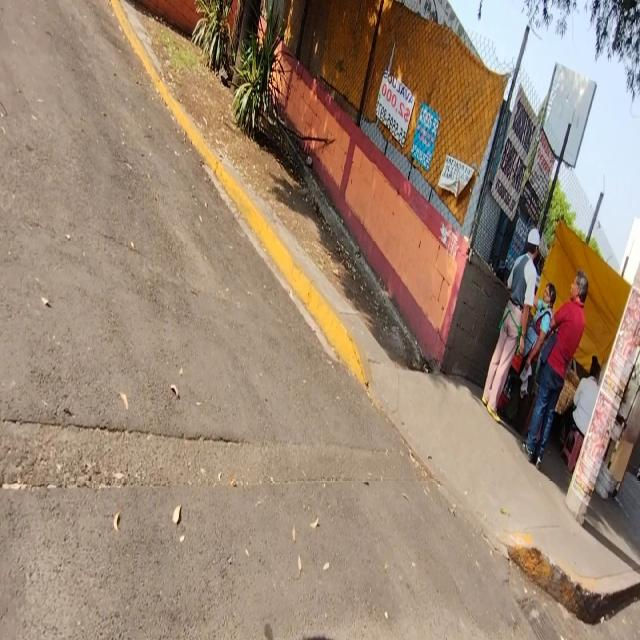adult: (520, 270, 588, 464), (482, 228, 538, 423), (514, 283, 554, 425), (566, 354, 602, 438)
